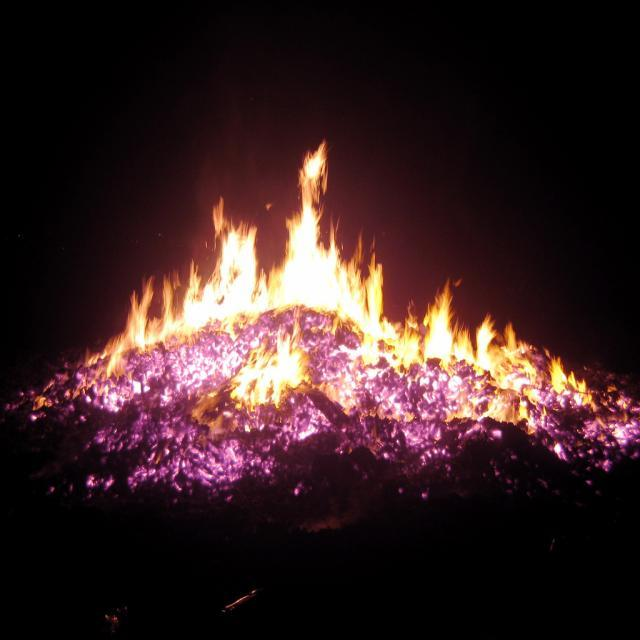Fire: (134, 284, 204, 342), (216, 226, 259, 314), (288, 225, 336, 302), (338, 265, 378, 325), (426, 292, 452, 371)
